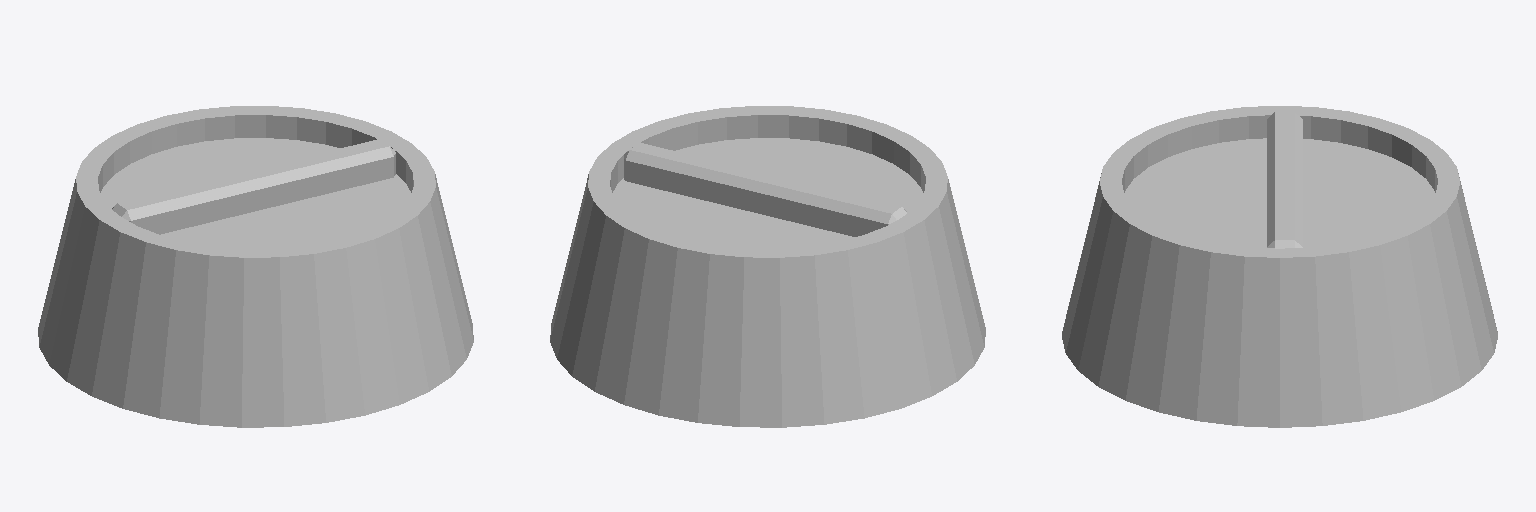
The model's file is круглый регулятор.obj.
3 views of the same model, side by side, from view 1: azimuth 30°, elevation 25°; view 2: azimuth 150°, elevation 25°; view 3: azimuth 270°, elevation 25° (orthographic).
Visible parts, largest first — view 1: Cylinder; view 2: Cylinder; view 3: Cylinder.
Boxes of the visible parts, x1=… form: Cylinder: x1=38, y1=106, x2=473, y2=427; Cylinder: x1=550, y1=106, x2=985, y2=427; Cylinder: x1=1062, y1=106, x2=1497, y2=427.
Bounding box in the file's own units: 2 × 0.8046 × 2.